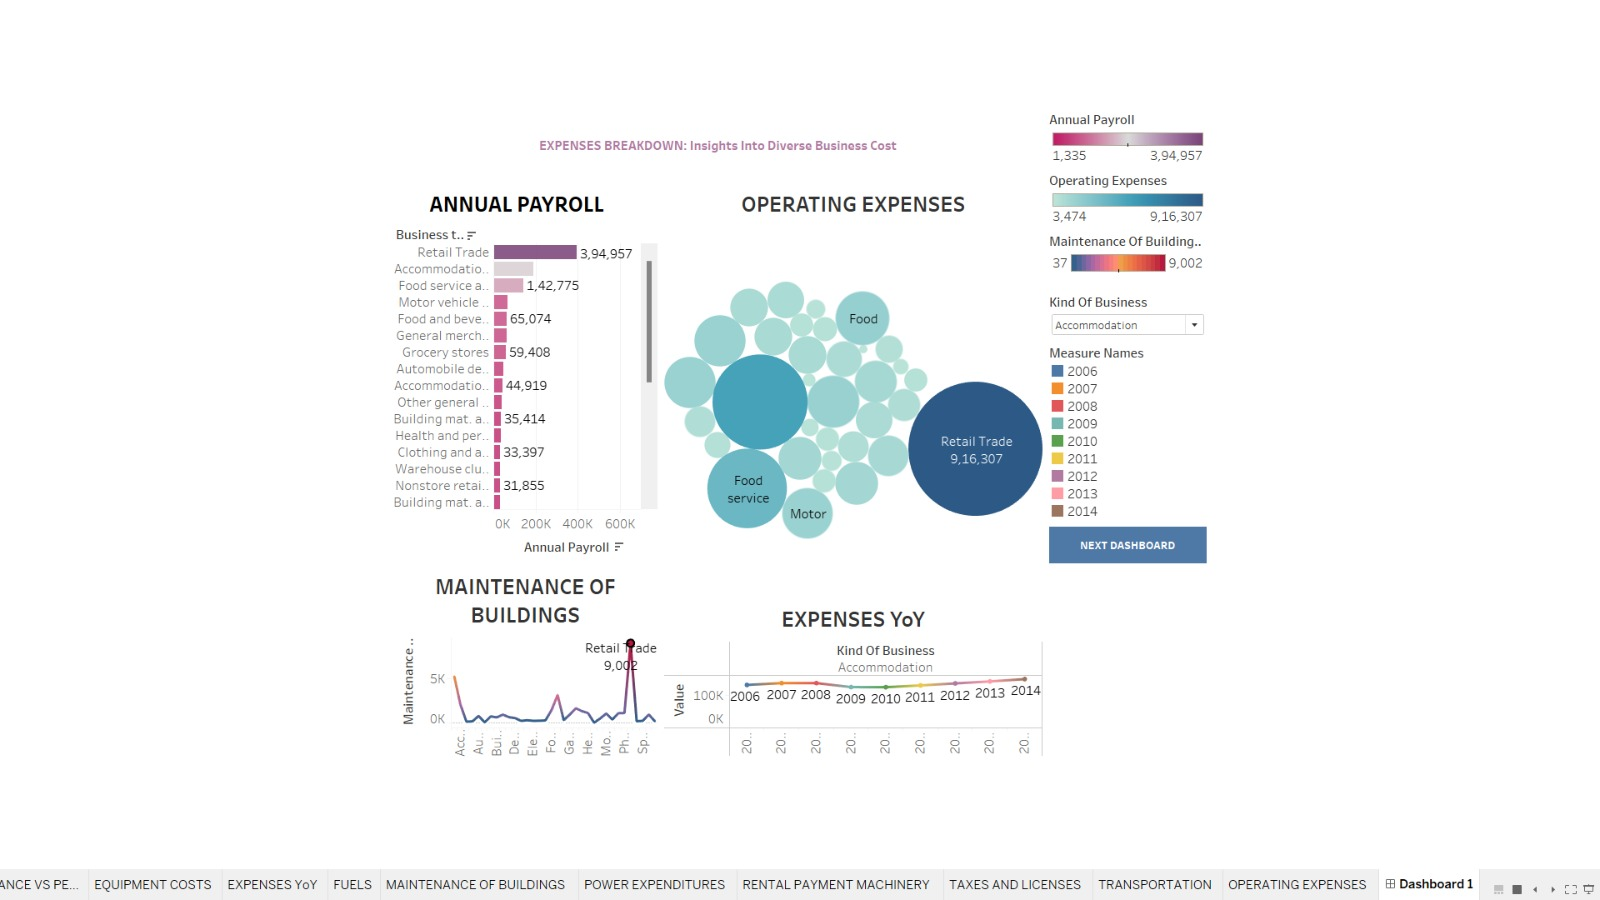

The page's visual inventory and layout, read from the dashboard file:
{"tool":"tableau","page":{"name":"Dashboard 1","canvas":[1000,800],"ordinal":0},"visuals":[{"type":"text","box":[8,8,787,90]},{"type":"legend","title":"ANNUAL PAYROLL","param":"[federated.1o96k620cctjzr15oox1n03v0wdw].[sum:annual_payroll:qk]","box":[795,8,197,73]},{"type":"legend","title":"OPERATING EXPENSES","param":"[federated.1o96k620cctjzr15oox1n03v0wdw].[sum:operating_expenses:qk]","box":[795,81,197,73]},{"type":"worksheet","title":"ANNUAL PAYROLL","mark":"Automatic","rows":["Business_types"],"cols":["annual_payroll"],"box":[8,98,325,459]},{"type":"worksheet","title":"OPERATING EXPENSES","mark":"Circle","box":[333,98,462,498]},{"type":"legend","title":"MAINTENANCE OF BUILDINGS","param":"[federated.1o96k620cctjzr15oox1n03v0wdw].[sum:maintenance_of_buildings_offices:q","box":[795,154,197,73]},{"type":"filter","title":"EXPENSES YoY","param":"[federated.1o96k620cctjzr15oox1n03v0wdw].[none:kind_of_business:nk]","box":[795,227,197,61]},{"type":"legend","title":"EXPENSES YoY","param":"[federated.1o96k620cctjzr15oox1n03v0wdw].[:Measure Names]","box":[795,288,197,219]},{"type":"dashboard-object","box":[795,507,197,52]},{"type":"worksheet","title":"MAINTENANCE OF BUILDINGS","mark":"Line","rows":["maintenance_of_buildings_offices"],"cols":["Business_types"],"box":[8,557,325,235]},{"type":"worksheet","title":"EXPENSES YoY","mark":"Line","cols":["kind_of_business"],"box":[333,596,462,196]}]}

Visuals, with their boxes on the page's 1000x800 design canvas (x1, y1, x2, y2). These are canvas units, not pixel positions in the 1600x900 screenshot, which may show the page scaled, cropped or inside an application window:
text: <bbox>8, 8, 795, 98</bbox>
"ANNUAL PAYROLL" legend: <bbox>795, 8, 992, 81</bbox>
"OPERATING EXPENSES" legend: <bbox>795, 81, 992, 154</bbox>
"ANNUAL PAYROLL" worksheet: <bbox>8, 98, 333, 557</bbox>
"OPERATING EXPENSES" worksheet (Circle marks): <bbox>333, 98, 795, 596</bbox>
"MAINTENANCE OF BUILDINGS" legend: <bbox>795, 154, 992, 227</bbox>
"EXPENSES YoY" filter: <bbox>795, 227, 992, 288</bbox>
"EXPENSES YoY" legend: <bbox>795, 288, 992, 507</bbox>
dashboard-object: <bbox>795, 507, 992, 559</bbox>
"MAINTENANCE OF BUILDINGS" worksheet (Line marks): <bbox>8, 557, 333, 792</bbox>
"EXPENSES YoY" worksheet (Line marks): <bbox>333, 596, 795, 792</bbox>
